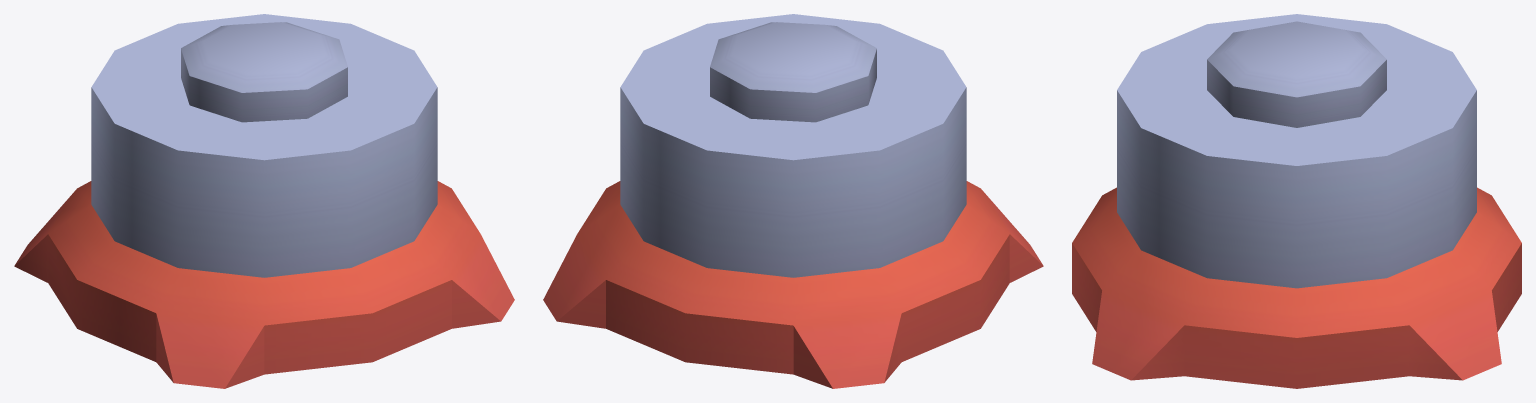
Rendered from kenney-tower-defense-tower-round-bottom-b.glb.
3 renders of one model, left to right at view 1: azimuth 30°, elevation 25°; view 2: azimuth 150°, elevation 25°; view 3: azimuth 270°, elevation 25°, orthographic. The views are drawn at different scales.
Parts seen in each view (by area): view 1: tower-round-bottom-b; view 2: tower-round-bottom-b; view 3: tower-round-bottom-b.
Boxes of the visible parts, x1,y1,x2,y2 form: tower-round-bottom-b: [14, 14, 514, 388]; tower-round-bottom-b: [543, 14, 1043, 388]; tower-round-bottom-b: [1072, 14, 1521, 388].
Size of the model in its own units: 1 by 0.6001 by 1.
1 material, 1 textured.
